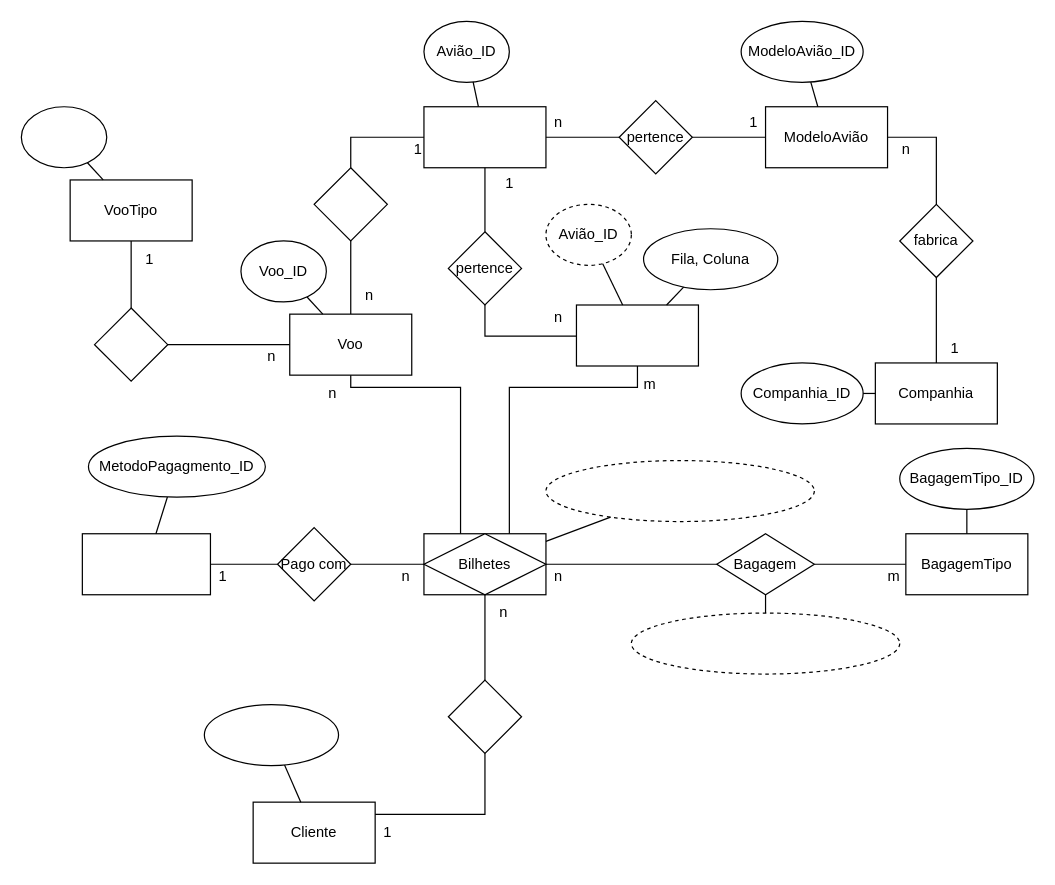
Some shapes in this 1055 by 885 pixel diagram are drawn without their labels. The box of each missing label's shape, as (x1, y1, x2, y2) in pixels:
Assentos: (575, 304, 698, 366)
Avião: (423, 106, 546, 168)
Cliente_ID: (203, 703, 339, 766)
Compra: (447, 679, 522, 753)
faz: (313, 167, 387, 241)
faz parte: (93, 307, 168, 381)
MetodoPagamento: (81, 533, 210, 595)
Voo_ID, Avião_ID, Fila, Coluna: (545, 459, 814, 522)
Voo_ID, Avião_ID, Fila, Coluna, BagagemTipo_ID: (630, 612, 900, 674)
VooTipo_ID: (20, 106, 107, 168)
